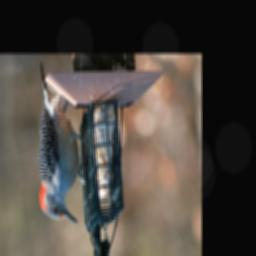Woodpecker: (38, 62, 88, 227)
